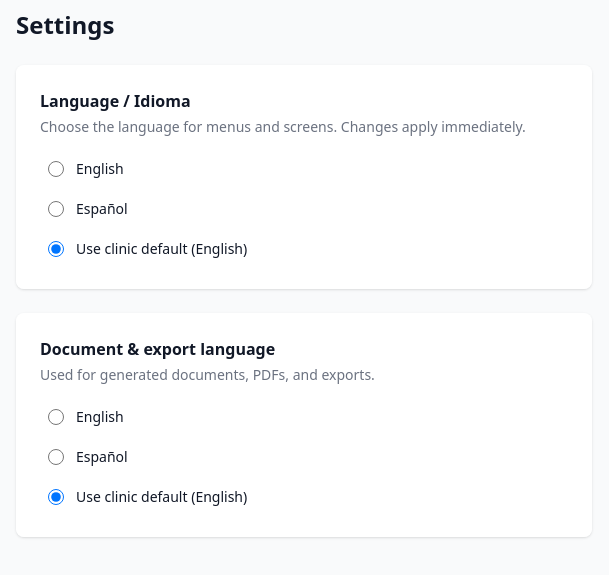
Test: SettingsPage › selecting Español switches the UI language instantly and PUTs the preference
The width and height of the screenshot is (609, 575).
Step 1. Click the radio button labelled "Español" below "Language / Idioma" → x=56, y=209, box x1=48 y1=201 x2=64 y2=217
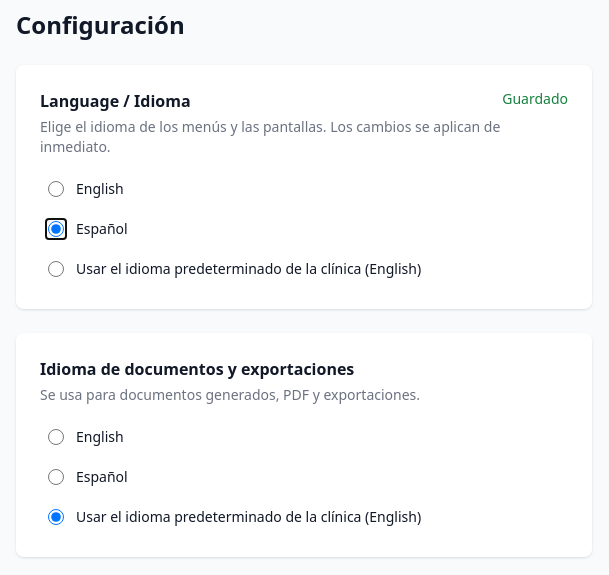
Expected: the text "Guardado" is shown, x1=502 y1=89 x2=568 y2=109
